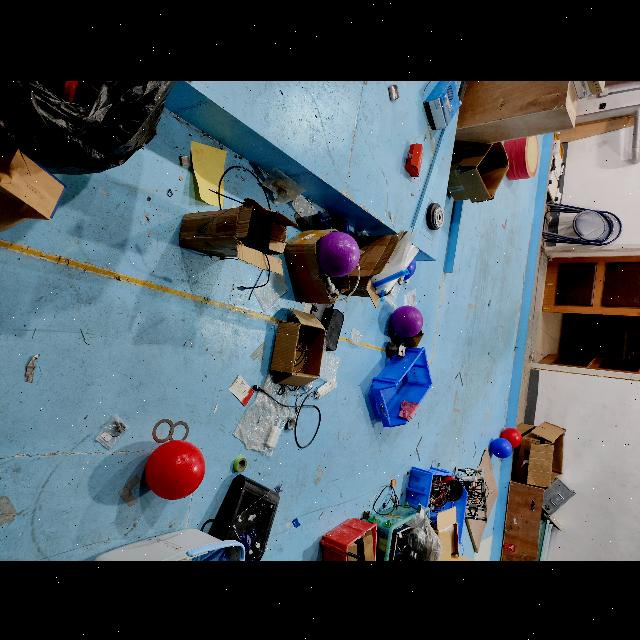B: (490, 437, 512, 458)
P: (314, 231, 360, 277), (390, 304, 424, 338)
R: (143, 439, 207, 499), (500, 427, 522, 447)
